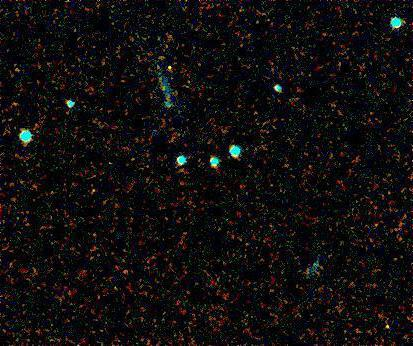star: (148, 54, 178, 84)
